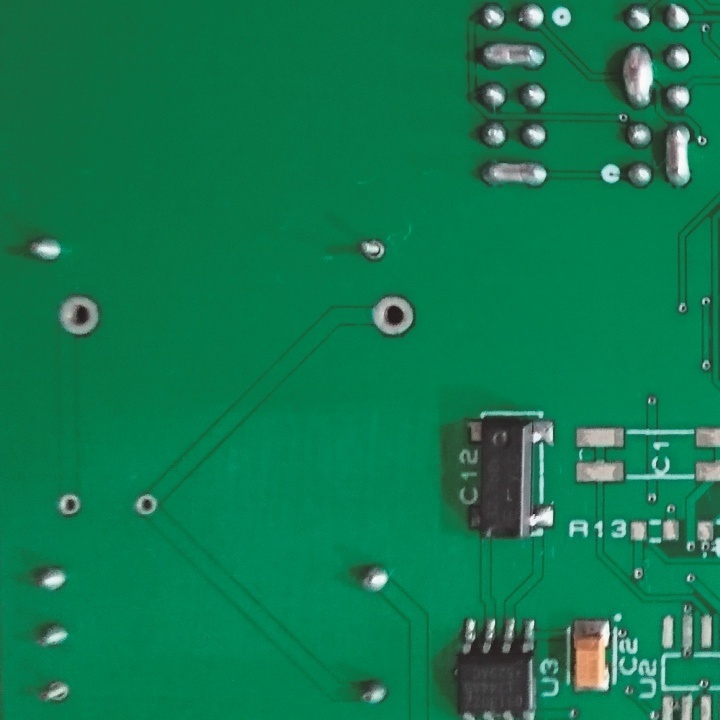F: (369, 292, 416, 343), (56, 292, 101, 340), (39, 674, 70, 706), (354, 238, 387, 266), (130, 491, 158, 519), (56, 491, 83, 518)
P: (620, 40, 657, 109), (477, 38, 547, 72), (479, 159, 547, 191), (664, 118, 693, 190)
